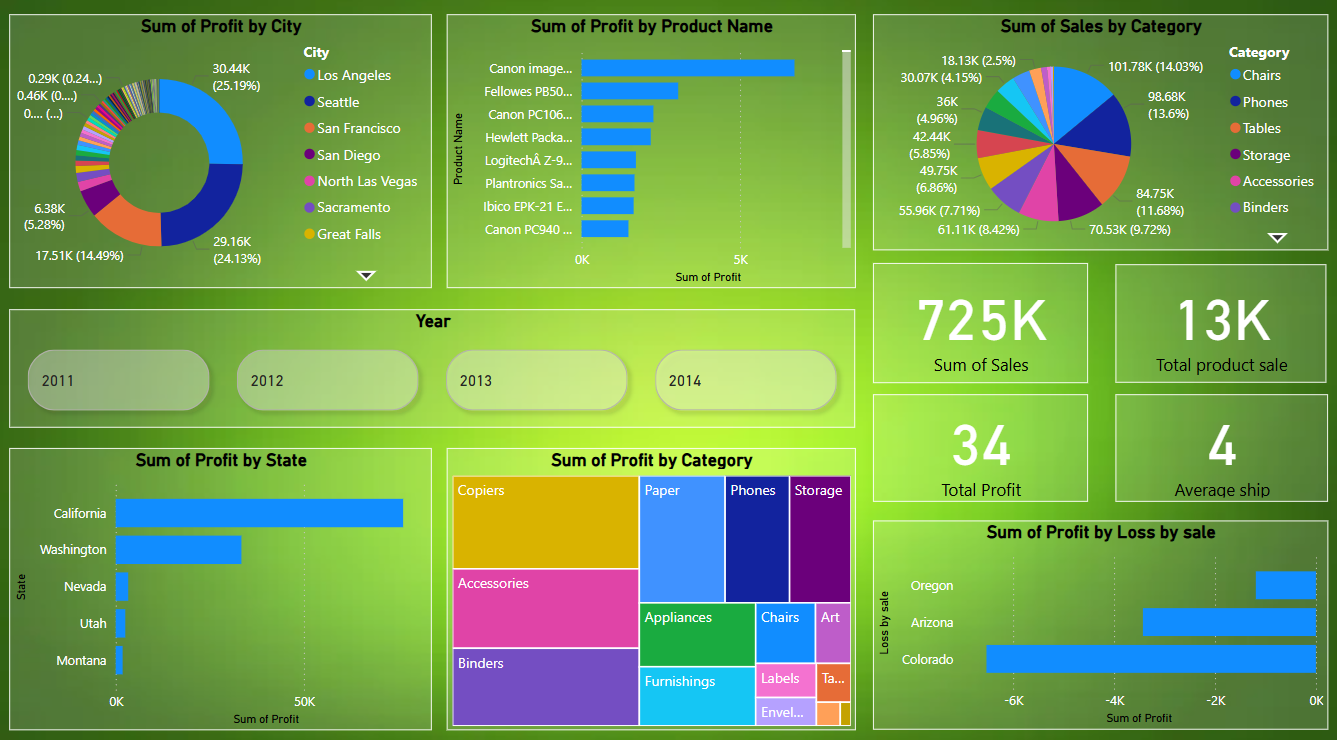

The dashboard page shown, as its layout file describes it:
{"tool":"powerbi","page":{"name":"Page 1","canvas":[1280,720],"ordinal":0},"visuals":[{"type":"advancedSlicerVisual","fields":{"Values":["Walmart.Year"]},"box":[10.7,301.2,806,113.1],"z":0},{"type":"card","fields":{"Values":["Sum(Walmart.Sales)"]},"box":[833.3,257.1,204.8,114.3],"z":1000},{"type":"card","fields":{"Values":["Avg(Walmart.Profit)"]},"box":[833.3,382.1,204.8,102.4],"z":2000},{"type":"card","fields":{"Values":["Avg(Walmart.timetoshift)"]},"box":[1064.3,382.1,202.4,102.4],"z":3000},{"type":"card","fields":{"Values":["Sum(Walmart.timetoshift)"]},"box":[1064.3,258.3,201.2,113.1],"z":4000},{"type":"barChart","fields":{"Category":["Walmart.State"],"Y":["Sum(Walmart.Profit)"]},"box":[11.2,433.8,402.5,268.8],"z":5000},{"type":"barChart","fields":{"Category":["Walmart.State"],"Y":["Sum(Walmart.Profit)"]},"box":[833.3,502.4,433.3,198.8],"z":6000},{"type":"pieChart","fields":{"Category":["Walmart.Category"],"Y":["Sum(Walmart.Sales)"]},"box":[833.3,20.2,433.3,225],"z":7000},{"type":"donutChart","fields":{"Category":["Walmart.City"],"Y":["Sum(Walmart.Profit)"]},"box":[10.7,20.2,402.4,260.7],"z":8000},{"type":"treemap","fields":{"Group":["Walmart.Category"],"Values":["Sum(Walmart.Profit)"]},"box":[427.4,433.3,389.3,269],"z":9000},{"type":"clusteredBarChart","fields":{"Category":["Walmart.Product Name"],"Y":["Sum(Walmart.Profit)"]},"box":[427.4,20.2,389.3,260.7],"z":10000}]}

Visuals, with their boxes in screenshot pixels (x1, y1, x2, y2), scaled from the page's 1280x720 canvas onto the 1337x740 screenshot:
advancedSlicerVisual - Walmart.Year: x1=11, y1=310, x2=853, y2=426
card - Sum(Walmart.Sales): x1=870, y1=264, x2=1084, y2=382
card - Avg(Walmart.Profit): x1=870, y1=393, x2=1084, y2=498
card - Avg(Walmart.timetoshift): x1=1112, y1=393, x2=1323, y2=498
card - Sum(Walmart.timetoshift): x1=1112, y1=265, x2=1322, y2=382
barChart - Walmart.State x Sum(Walmart.Profit): x1=12, y1=446, x2=432, y2=722
barChart - Walmart.State x Sum(Walmart.Profit): x1=870, y1=516, x2=1323, y2=721
pieChart - Walmart.Category x Sum(Walmart.Sales): x1=870, y1=21, x2=1323, y2=252
donutChart - Walmart.City x Sum(Walmart.Profit): x1=11, y1=21, x2=431, y2=289
treemap - Walmart.Category x Sum(Walmart.Profit): x1=446, y1=445, x2=853, y2=722
clusteredBarChart - Walmart.Product Name x Sum(Walmart.Profit): x1=446, y1=21, x2=853, y2=289
